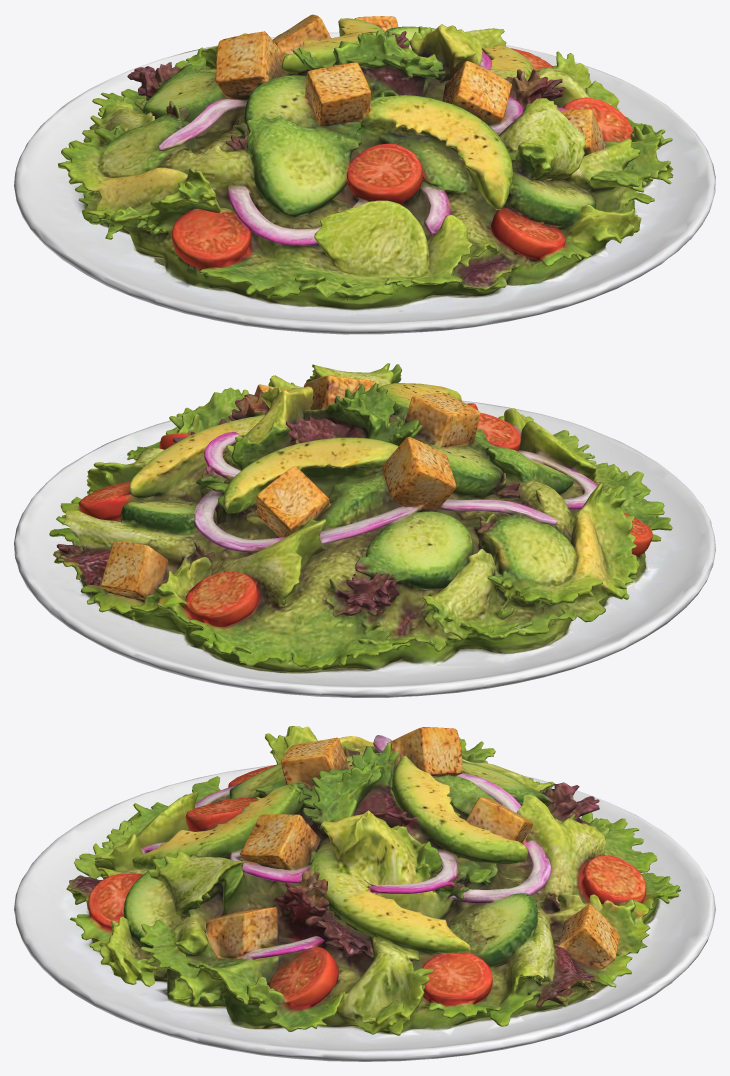
Rendered from ensalada_1.glb.
3 renders of one model, top to bottom at view 1: azimuth 30°, elevation 25°; view 2: azimuth 150°, elevation 25°; view 3: azimuth 270°, elevation 25°, orthographic.
Visible parts, largest first — view 1: tripo_node_c87f1970-6ee2-40a6-bad0-40dff9099fbd; view 2: tripo_node_c87f1970-6ee2-40a6-bad0-40dff9099fbd; view 3: tripo_node_c87f1970-6ee2-40a6-bad0-40dff9099fbd.
Part boxes in pixels (x1,y1,x2,y2): tripo_node_c87f1970-6ee2-40a6-bad0-40dff9099fbd: (14,14,715,334); tripo_node_c87f1970-6ee2-40a6-bad0-40dff9099fbd: (14,363,715,697); tripo_node_c87f1970-6ee2-40a6-bad0-40dff9099fbd: (14,726,715,1061).
Bounding box in the file's own units: 0.2692 × 0.0705 × 0.27.
1 material, 1 textured.
